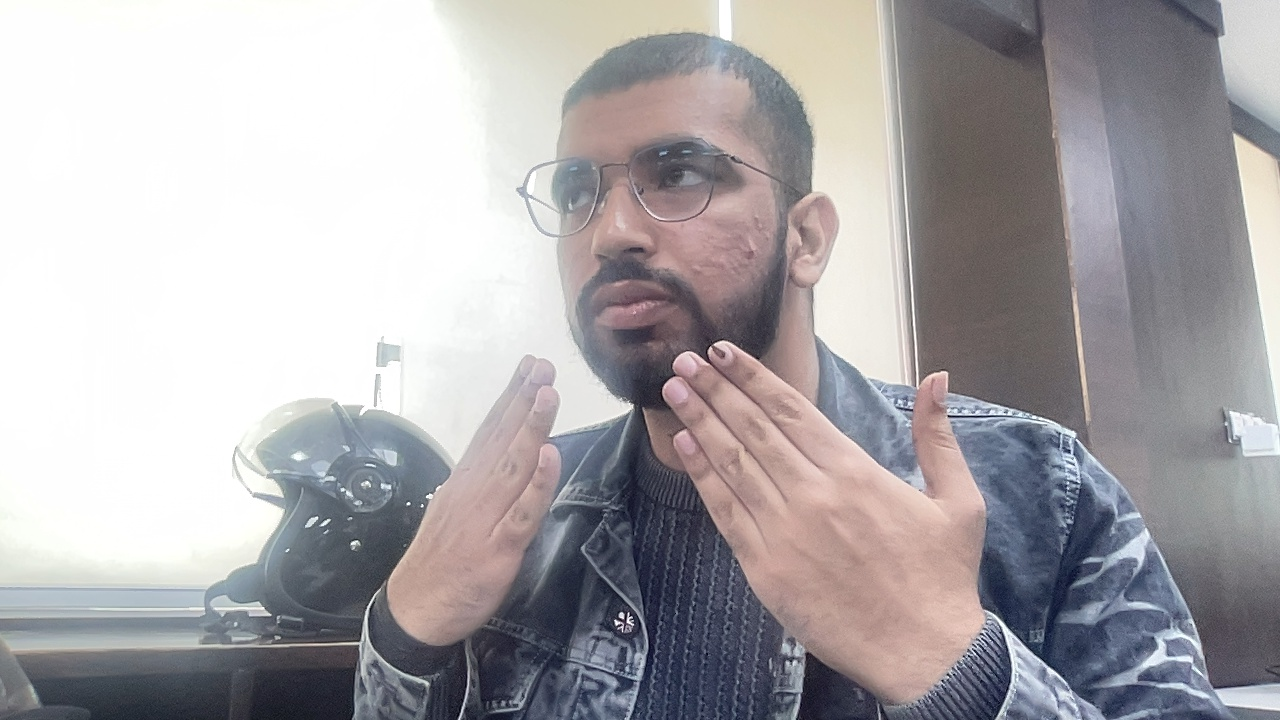Thank You: (274, 354, 1107, 689)
